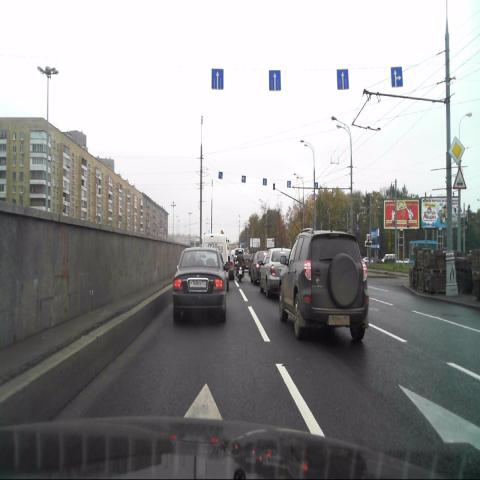1_5: (452, 166, 466, 190)
